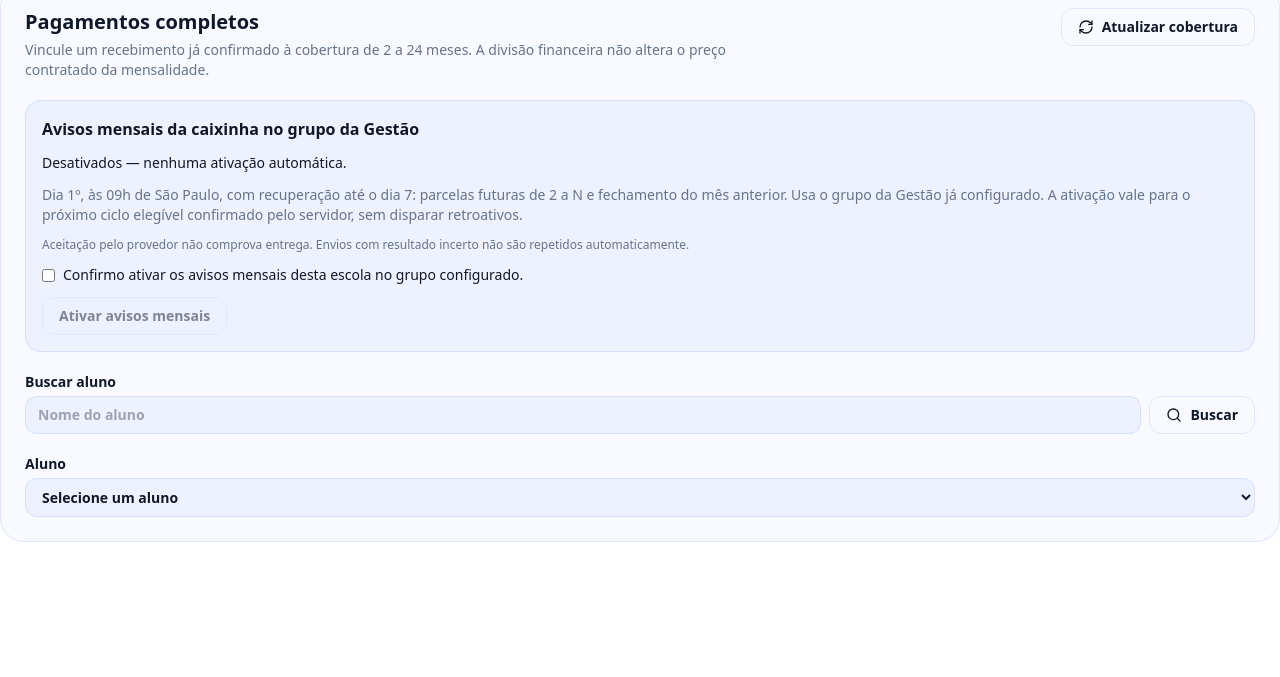
Scenario: pagamentos completos na direção › exige confirmação explícita, não rebaixa pagamentos e envia datas de competência
Step 1. Select "Aluna A" in the dropdown labelled "Aluno" → (640, 498), box [25, 478, 1255, 517]
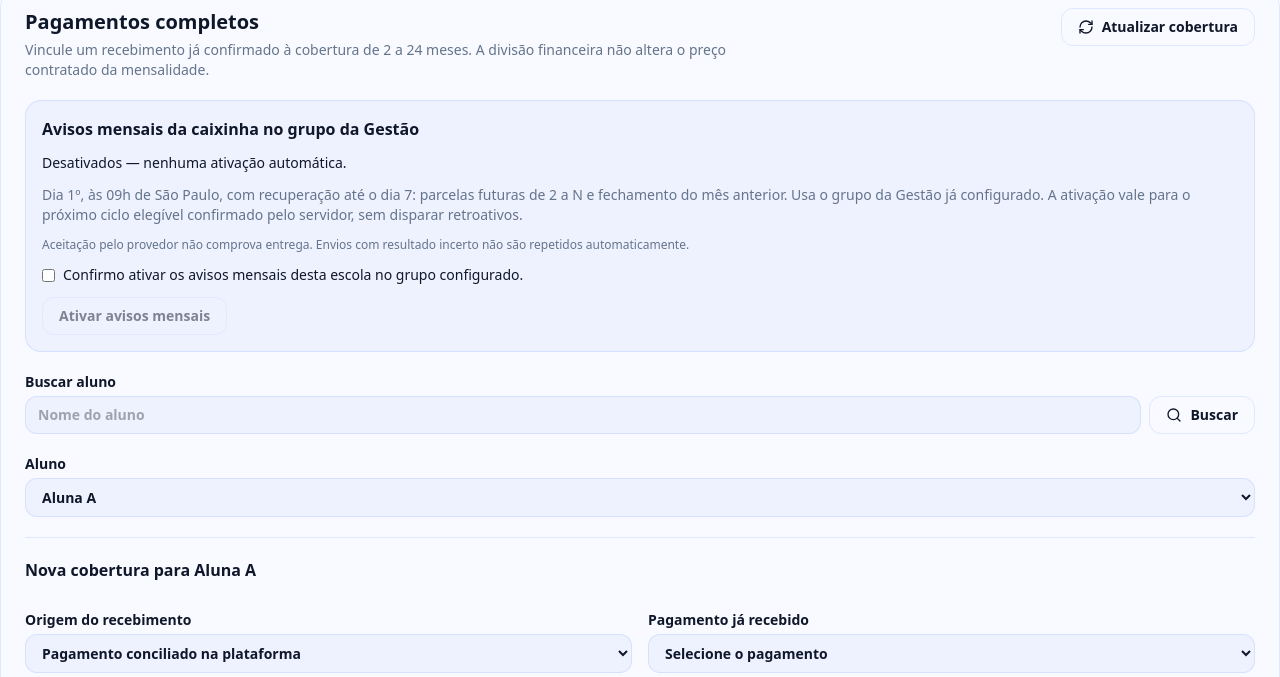
Now the text "Nova cobertura para Aluna A" is shown, box [25, 558, 256, 582]
Step 2. Select "05/09/2026 · R$ 100,01 · Contrato trimestral" in the dropdown labelled "Pagamento já recebido" → (952, 654), box [648, 634, 1255, 673]
(page scrolled)
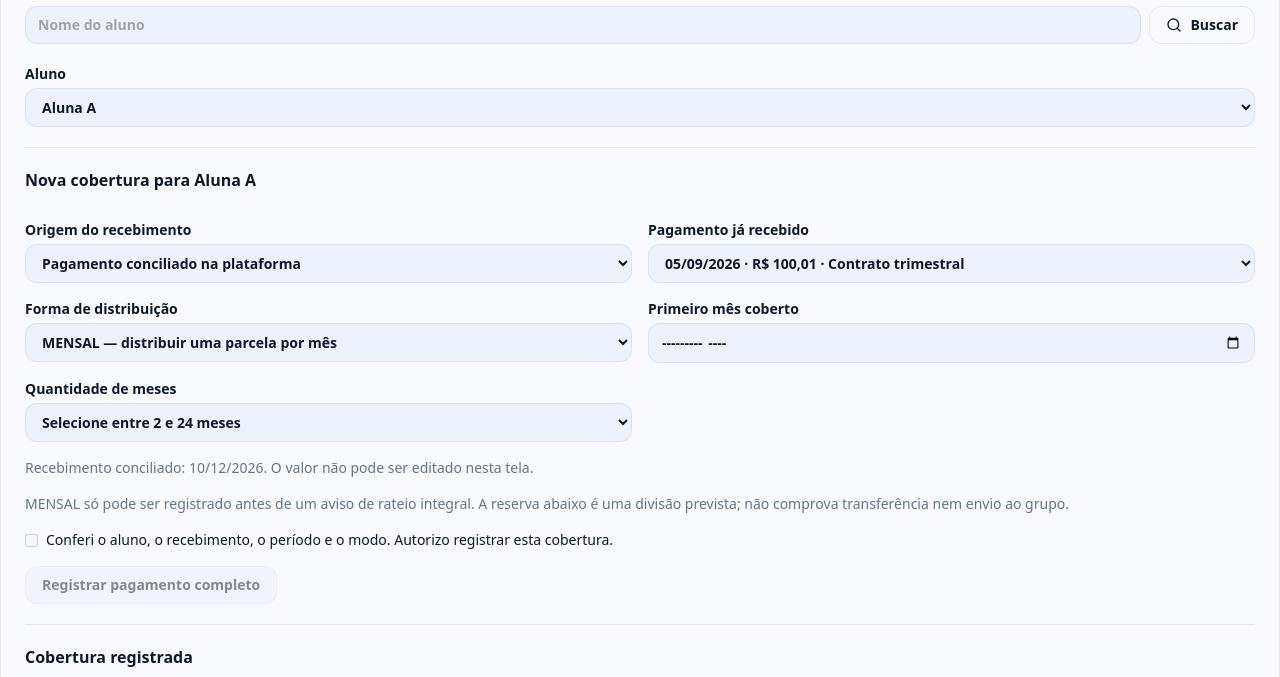
Step 3. Type "2026-12" into the field labelled "Primeiro mês coberto" → (952, 343), box [648, 323, 1255, 363]
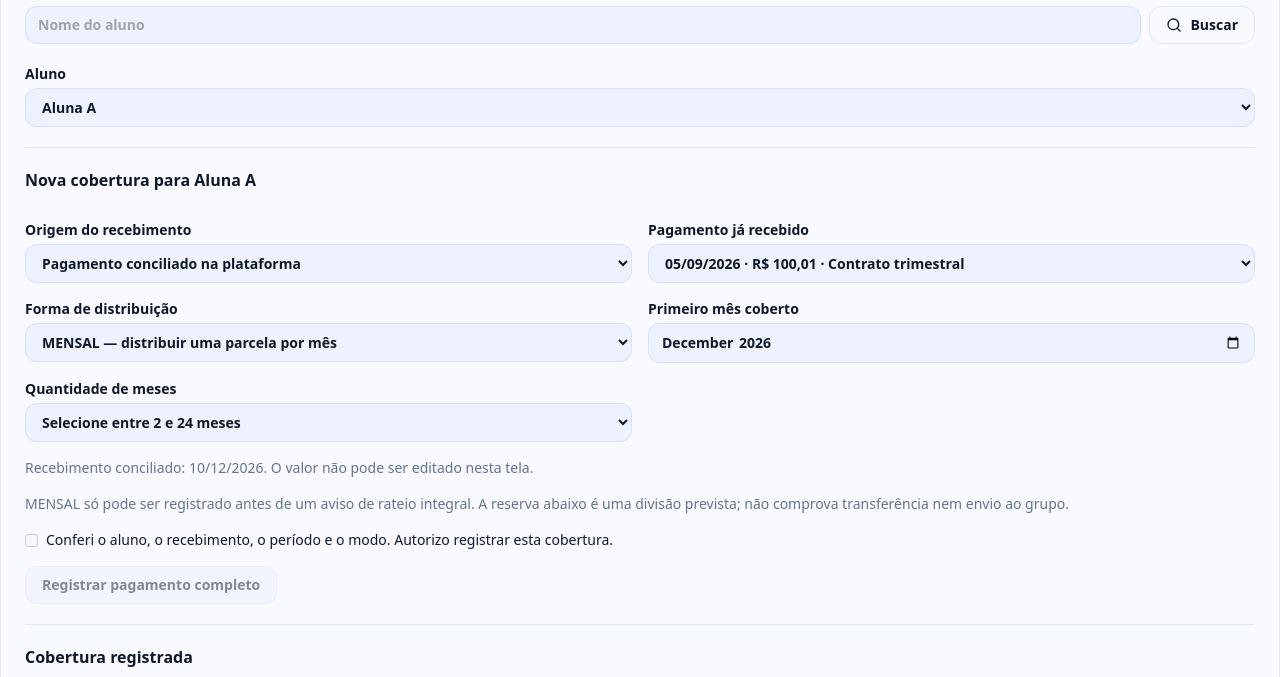
Step 4. Select "3 meses" in the dropdown labelled "Quantidade de meses" → (328, 422), box [25, 403, 632, 442]
(page scrolled)
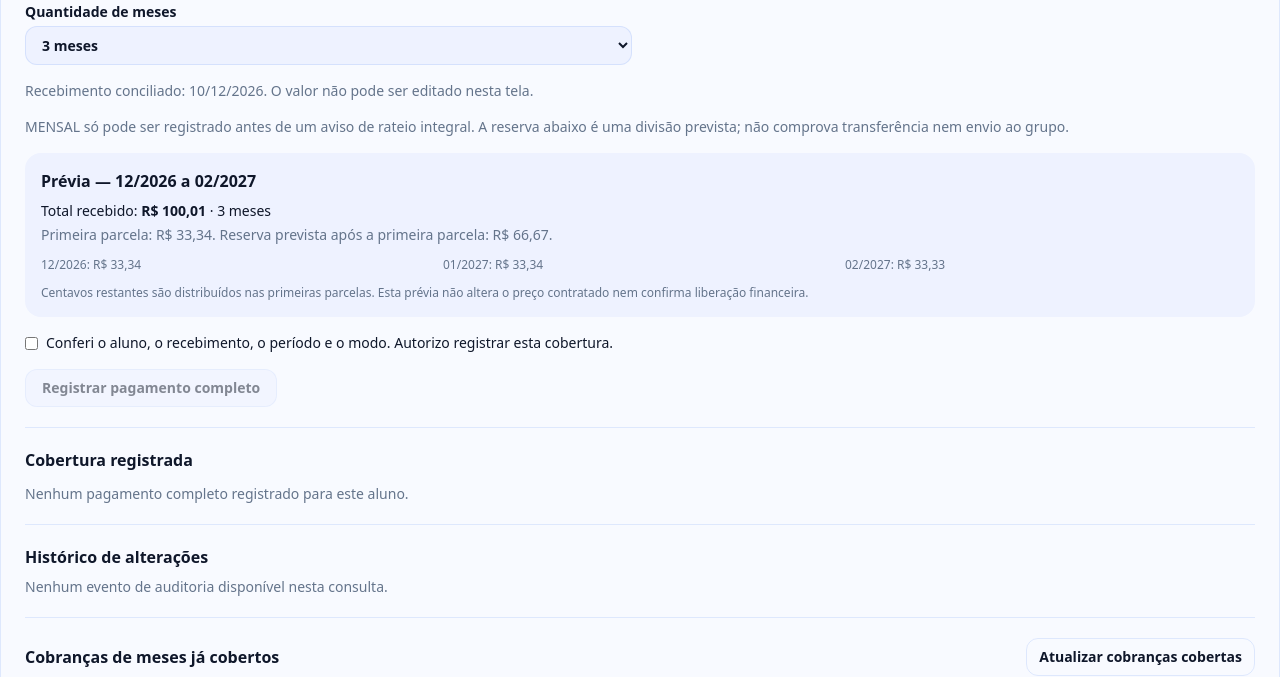
Now the button "Registrar pagamento completo" is disabled, box [25, 369, 277, 407]
Now the element named "Prévia da divisão financeira" shows "12/2026: R$ 33,34", box [25, 153, 1255, 317]
Now the element named "Prévia da divisão financeira" shows "02/2027: R$ 33,33", box [25, 153, 1255, 317]
Step 5. Click the checkbox labelled "Conferi o aluno" → click(32, 344), box [25, 337, 38, 350]
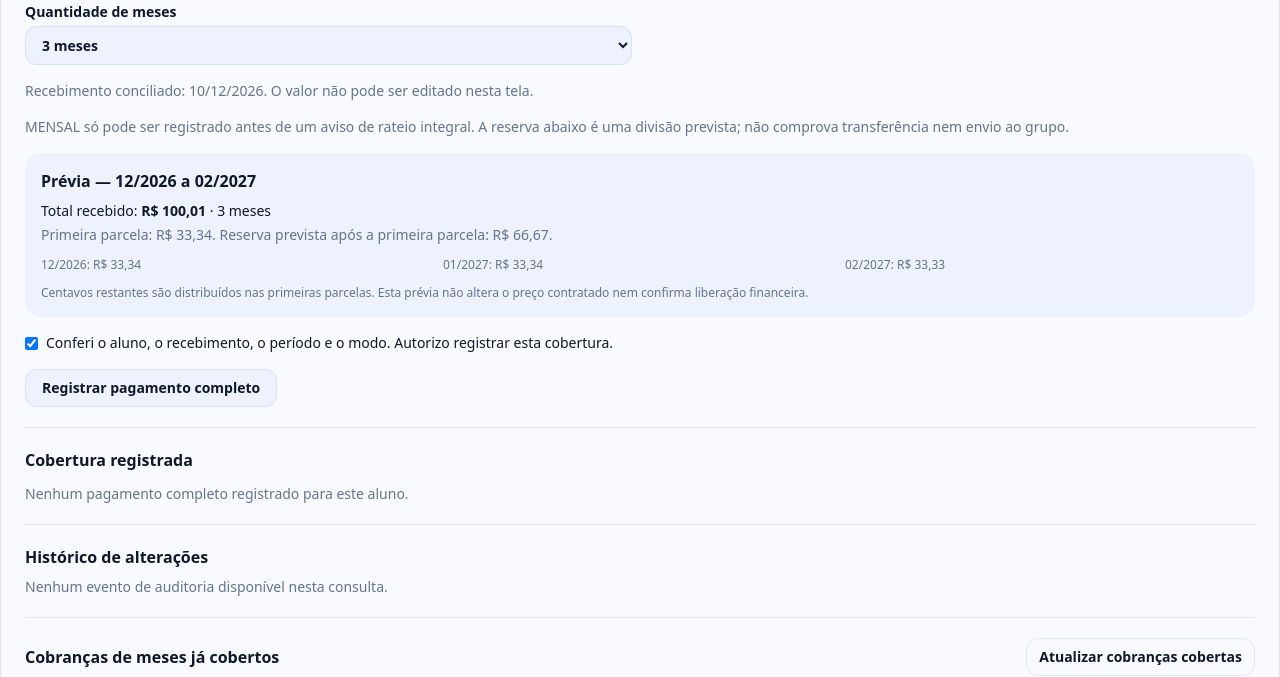
Step 6. Click the button "Registrar pagamento completo" → click(151, 388), box [25, 369, 277, 407]
(page scrolled)
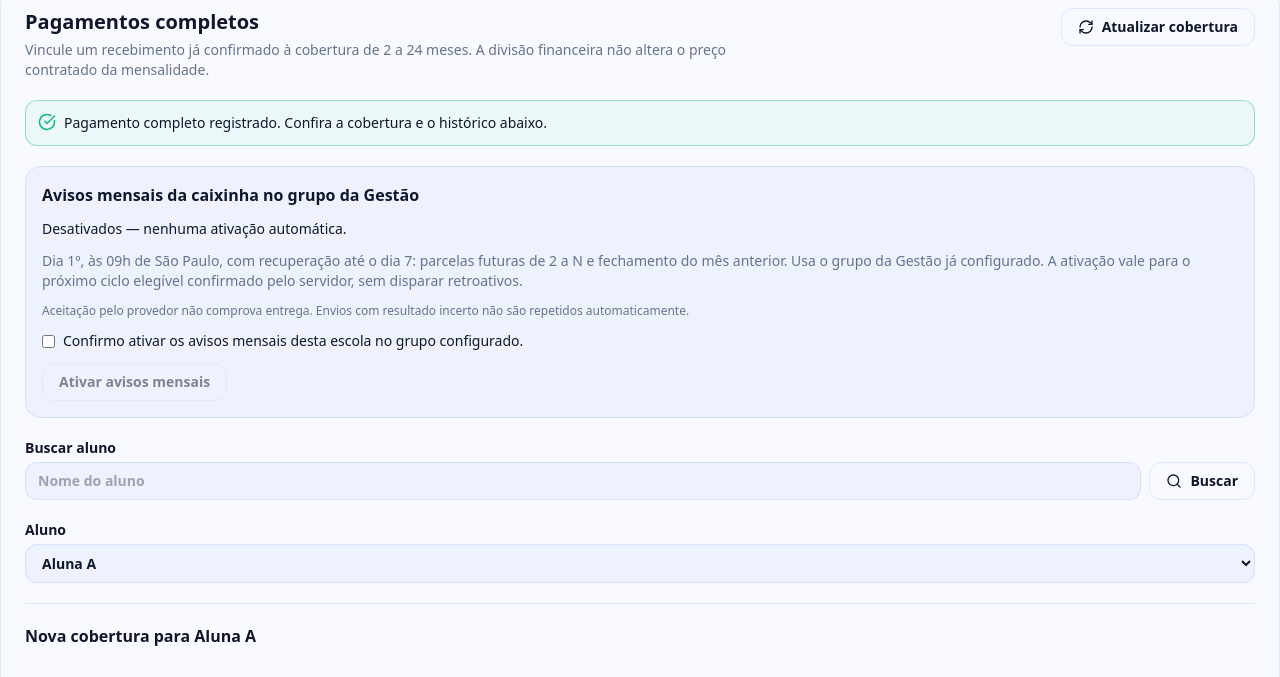
Now the text "Pagamento completo registrado. Confira a cobertura e o histórico abaixo." is shown, box [25, 100, 1255, 146]
